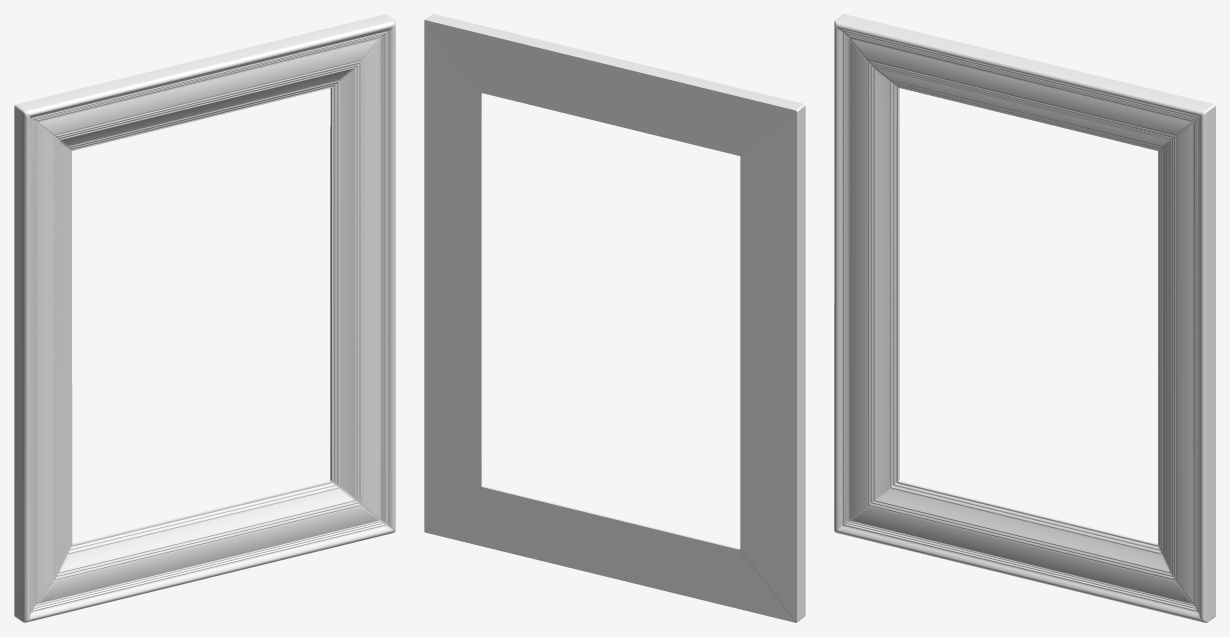
The model's file is wall-4.glb.
3 views of the same model, side by side, from view 1: azimuth 30°, elevation 25°; view 2: azimuth 150°, elevation 25°; view 3: azimuth 330°, elevation 25° (orthographic).
Visible parts, largest first — view 1: picture_frame_blank.1; view 2: picture_frame_blank.1; view 3: picture_frame_blank.1.
Boxes of the visible parts, x1,y1,x2,y2 form: picture_frame_blank.1: (14, 14, 395, 622); picture_frame_blank.1: (424, 14, 805, 622); picture_frame_blank.1: (834, 14, 1215, 622).
Size of the model in its own units: 0.1208 by 0.1587 by 0.00594.
Materials: 1 (1 with a texture image).
